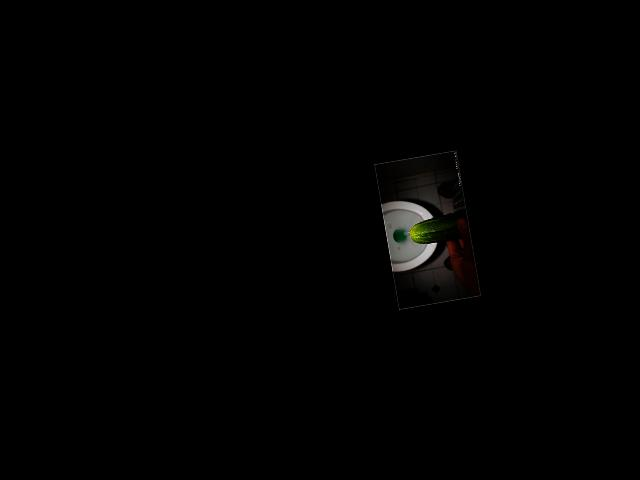cucumber: (407, 209, 471, 246)
